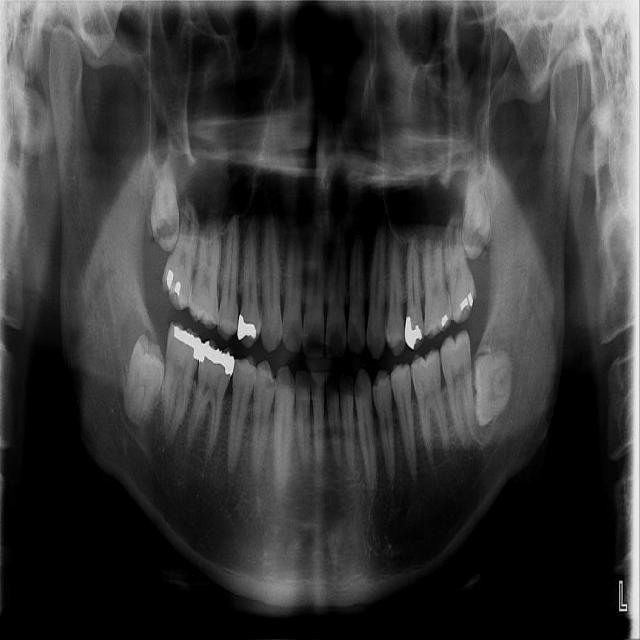Filling: (173, 327, 203, 360), (203, 344, 233, 374), (405, 308, 424, 351), (236, 314, 261, 341), (456, 290, 478, 315), (165, 266, 182, 297), (435, 311, 450, 326)
impacted tooth: (122, 336, 164, 424), (471, 348, 518, 426), (151, 153, 181, 251), (464, 153, 491, 258)
